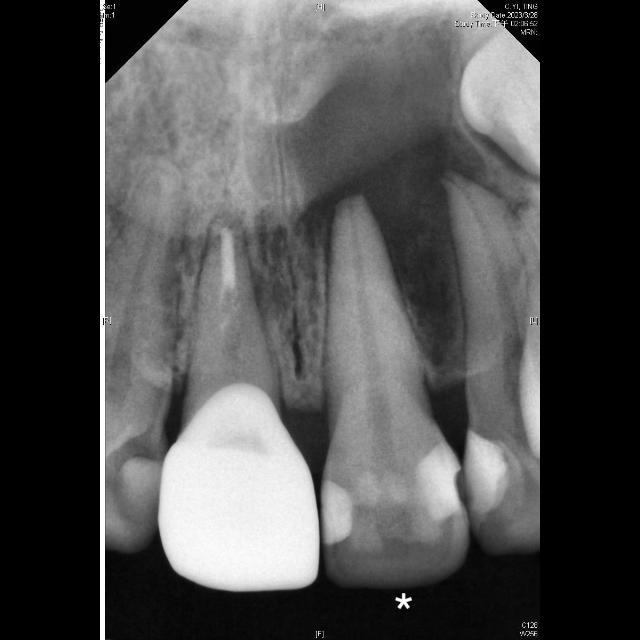test-segment: (320, 195, 470, 590)
